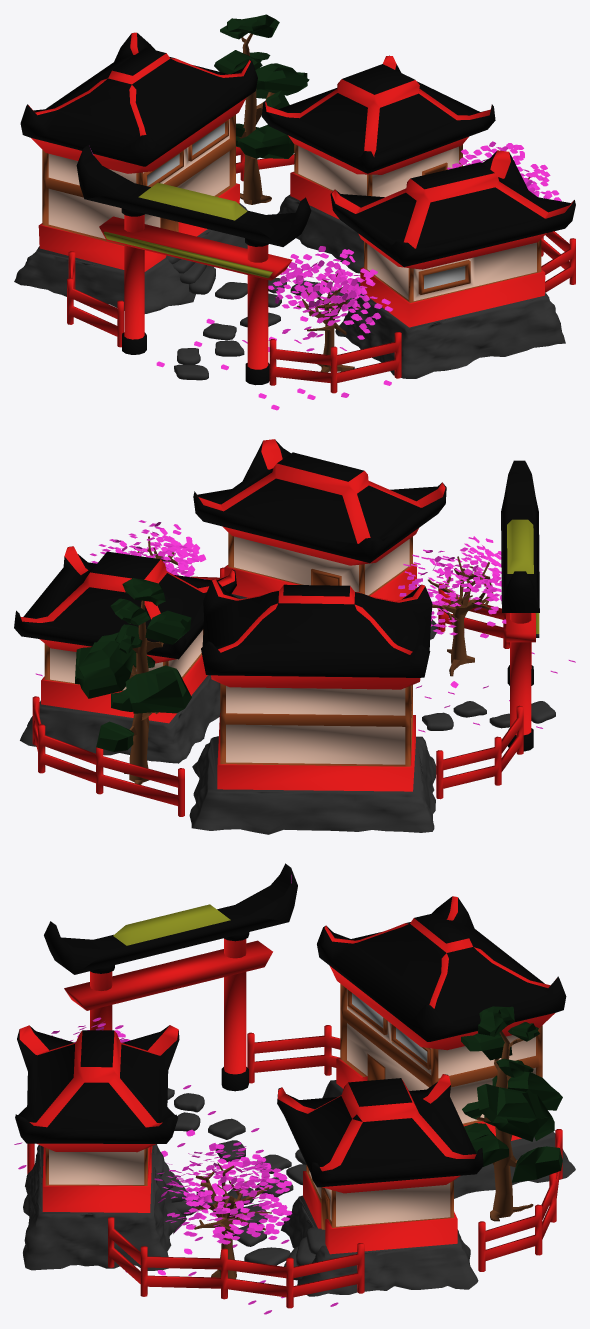
Rendered from dorf.FBX.
3 views of the same model, one above another, from view 1: azimuth 30°, elevation 25°; view 2: azimuth 150°, elevation 25°; view 3: azimuth 270°, elevation 25° (orthographic). The views are drawn at different scales.
Visible parts, largest first — view 1: dorf; view 2: dorf; view 3: dorf.
Part boxes in pixels (x1,y1,x2,y2): dorf: (14,14,575,410); dorf: (14,439,575,834); dorf: (14,863,575,1314).
Bounding box in the file's own units: 152 × 63.12 × 145.
